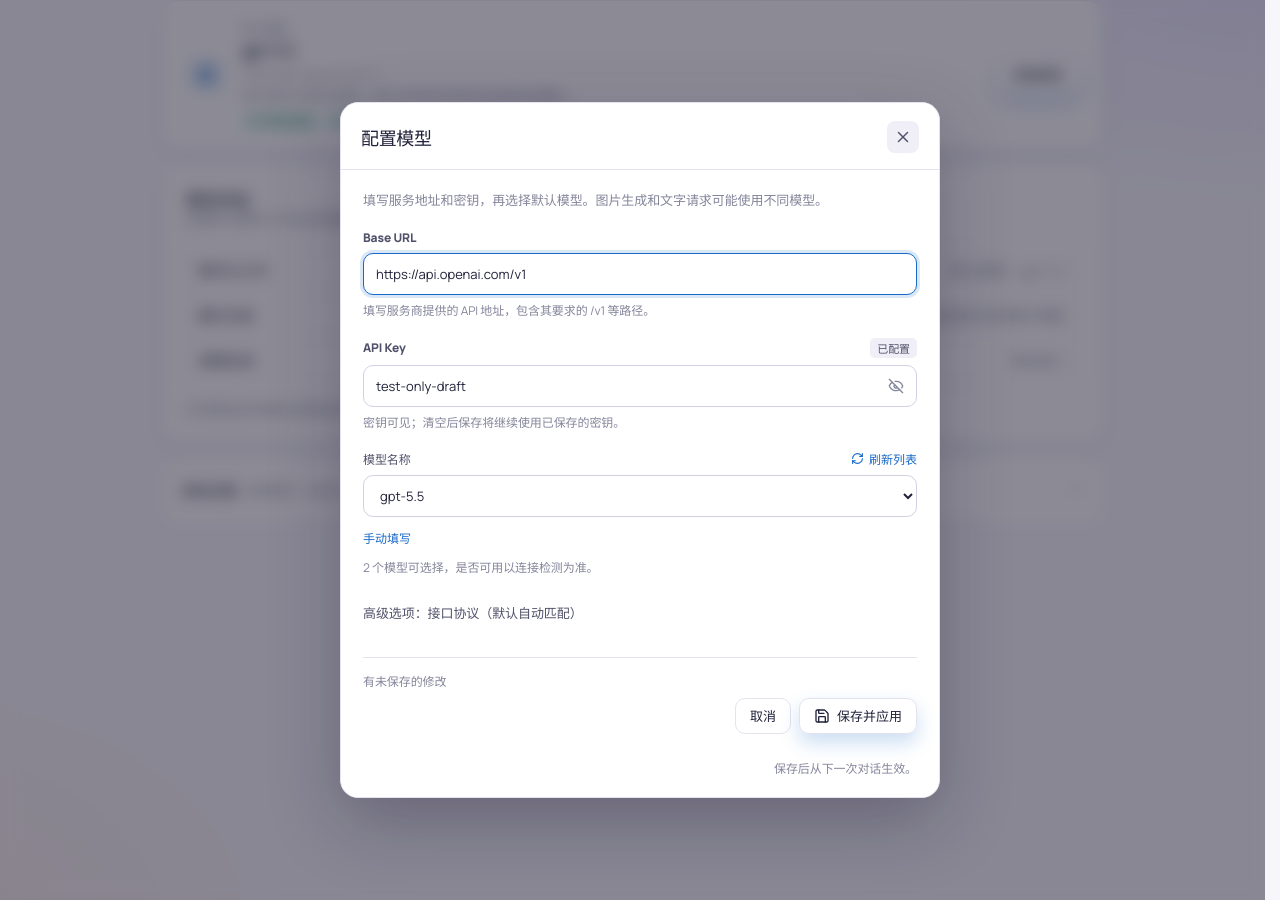
Scenario: ModelSettingsPage › shows newly entered keys by default and allows hiding them
Click the button named "隐藏 API Key": (896, 386) [879, 369, 913, 403]
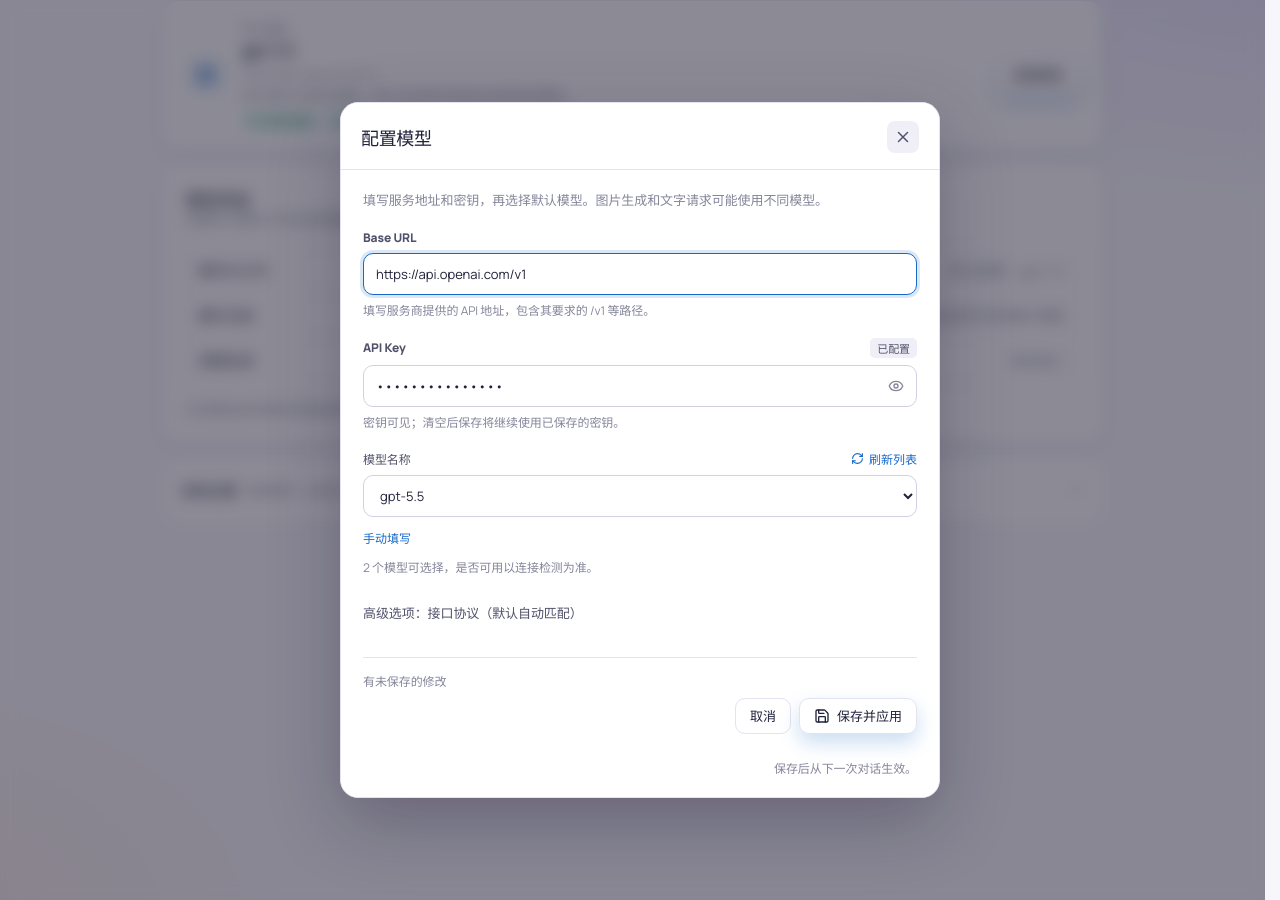
Check: the password field labelled "API Key" hides its text, box [363, 365, 917, 407]
